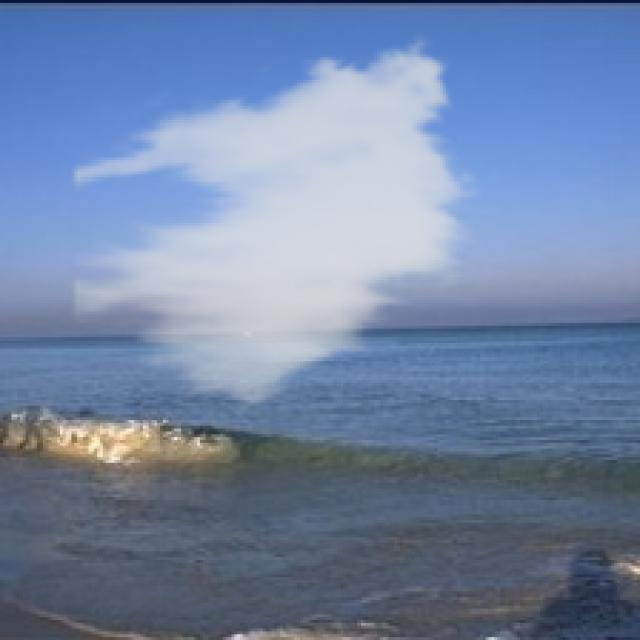smoke: (71, 29, 483, 417)
